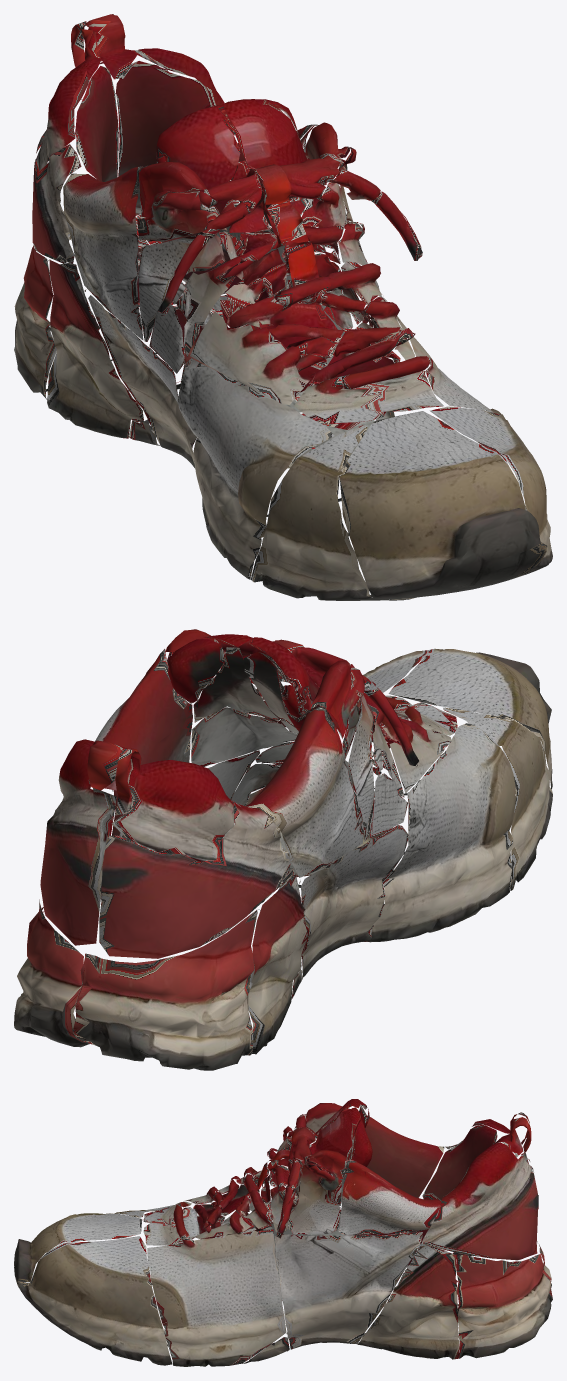
File: sneaker.glb
3 renders of one model, top to bottom at view 1: azimuth 30°, elevation 25°; view 2: azimuth 150°, elevation 25°; view 3: azimuth 270°, elevation 25°, orthographic. The views are drawn at different scales.
Size of the model in its own units: 0.369 by 0.4482 by 1.
1 material, 1 textured.
